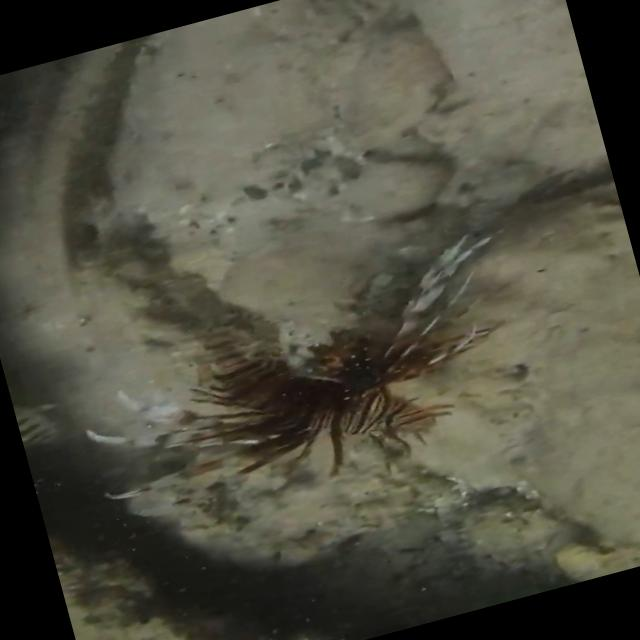Aslan Baligi: (55, 211, 541, 540)
